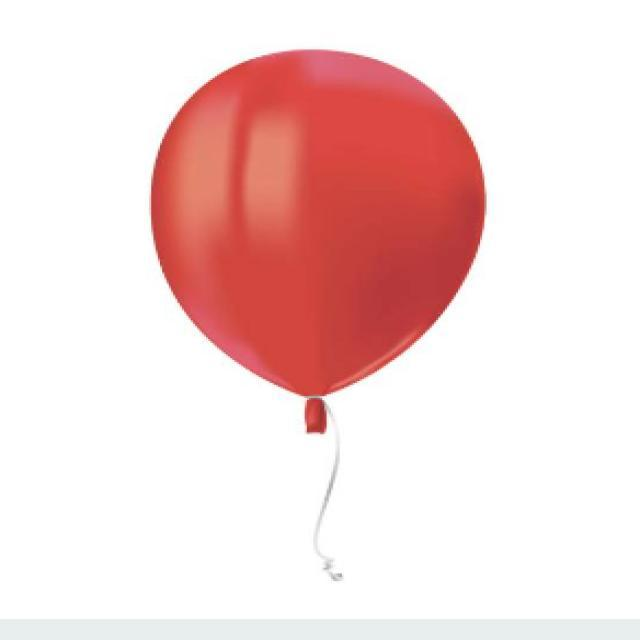red: (144, 33, 495, 396)
